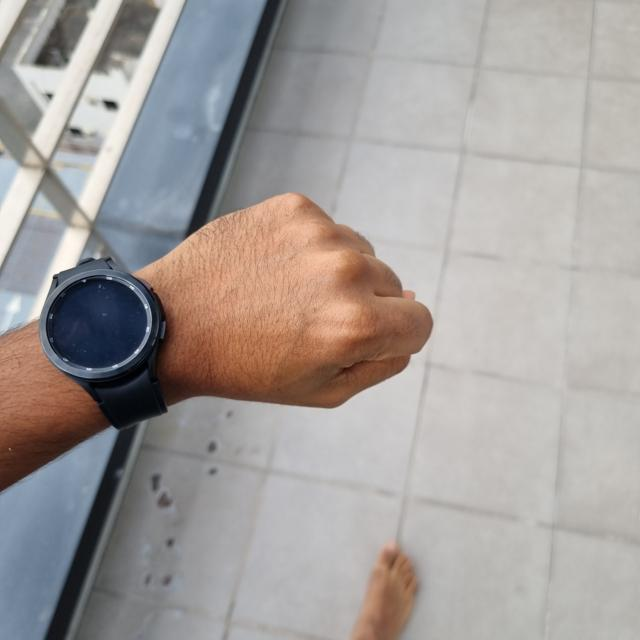Rock: (138, 190, 435, 409)
